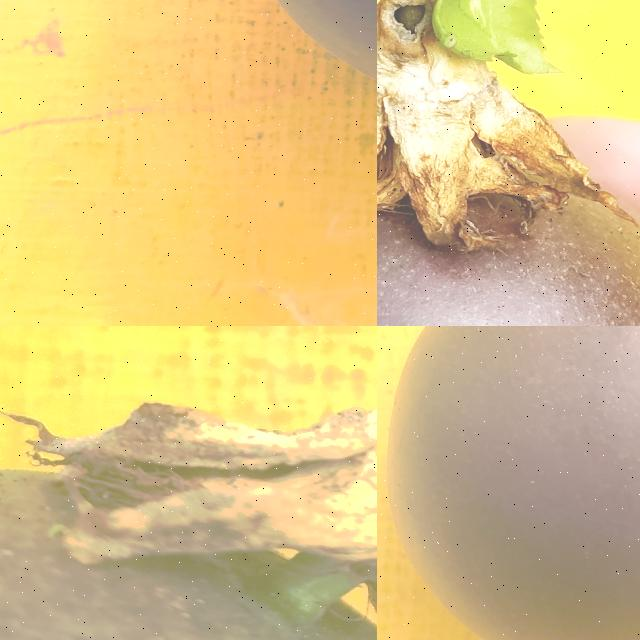Estado-3: (0, 405, 377, 640)
Estado-6: (377, 0, 640, 326), (394, 326, 640, 640)
